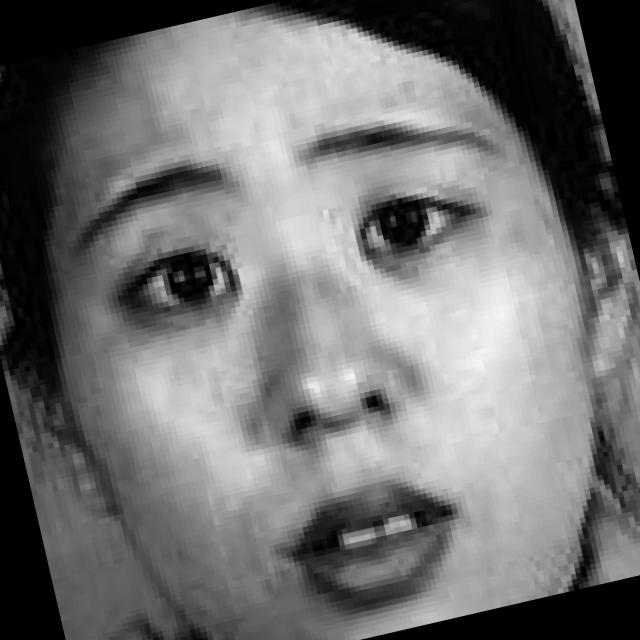fear: (30, 1, 573, 640)
